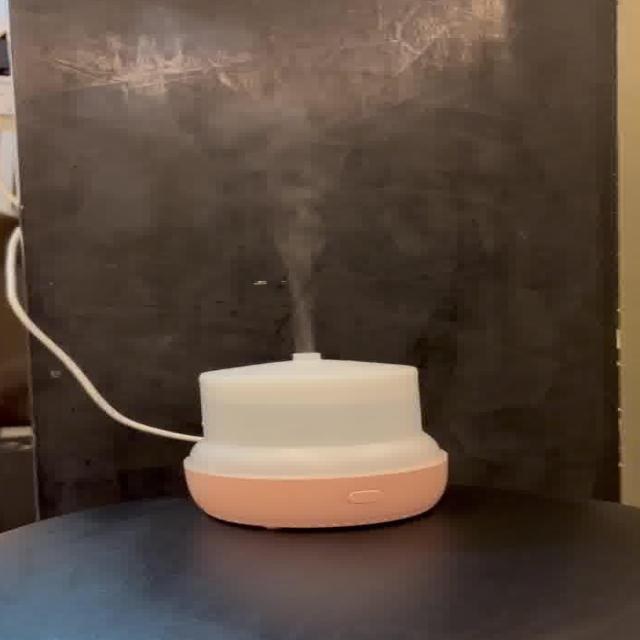fire: (121, 86, 332, 348)
